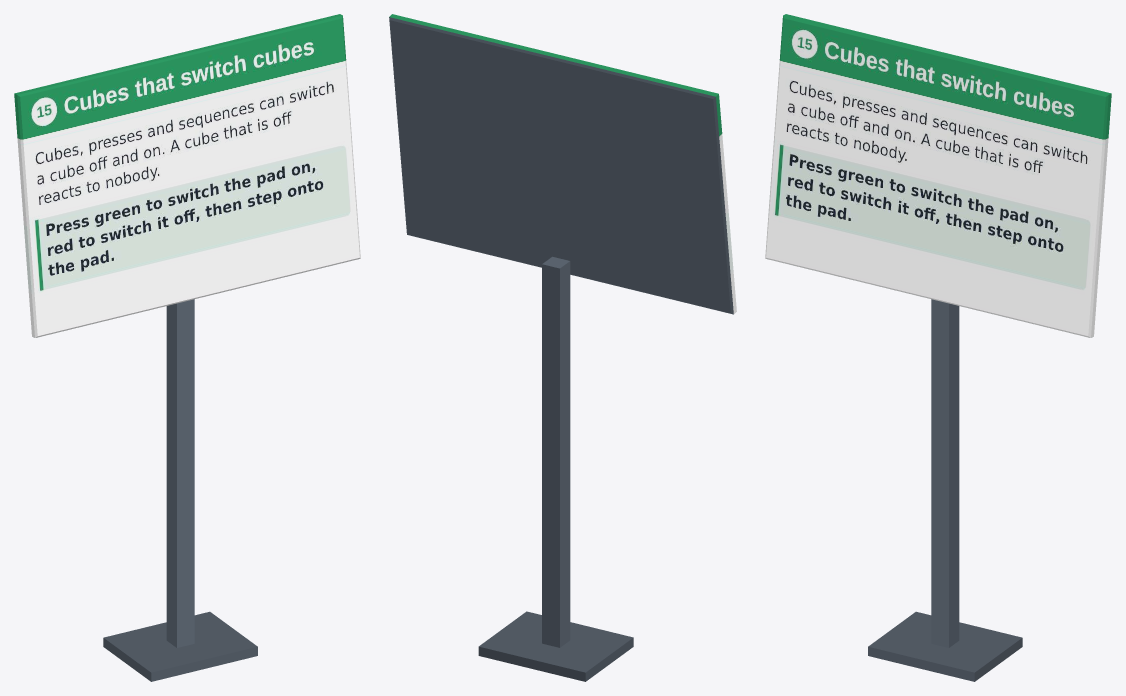
File: 15-cubes-that-switch-cubes.glb
3 renders of one model, left to right at view 1: azimuth 30°, elevation 25°; view 2: azimuth 150°, elevation 25°; view 3: azimuth 330°, elevation 25°, orthographic.
Parts seen in each view (by area): view 1: board; view 2: board; view 3: board.
Part boxes in pixels (x1,y1,x2,y2): board: [14, 14, 360, 681]; board: [389, 14, 736, 681]; board: [765, 14, 1111, 681].
Size of the model in its own units: 1.1 by 1.92 by 0.28.
1 material, 1 textured.
